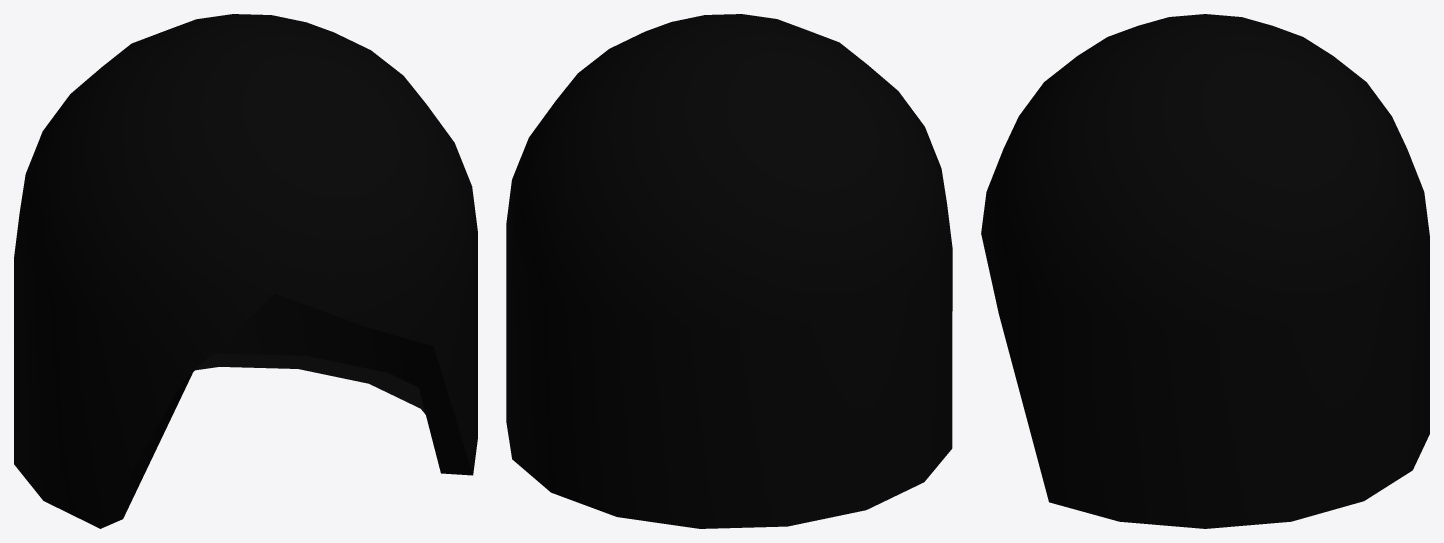
Rendered from Hair_01.fbx.
3 views of the same model, side by side, from view 1: azimuth 30°, elevation 25°; view 2: azimuth 150°, elevation 25°; view 3: azimuth 270°, elevation 25° (orthographic). The views are drawn at different scales.
Visible parts, largest first — view 1: Hair_01; view 2: Hair_01; view 3: Hair_01.
Boxes of the visible parts, box(x1,y1,x2,y2) form: Hair_01: box(14, 14, 477, 528); Hair_01: box(506, 14, 952, 528); Hair_01: box(981, 14, 1429, 528).
Bounding box in the file's own units: 118 × 116 × 117.
